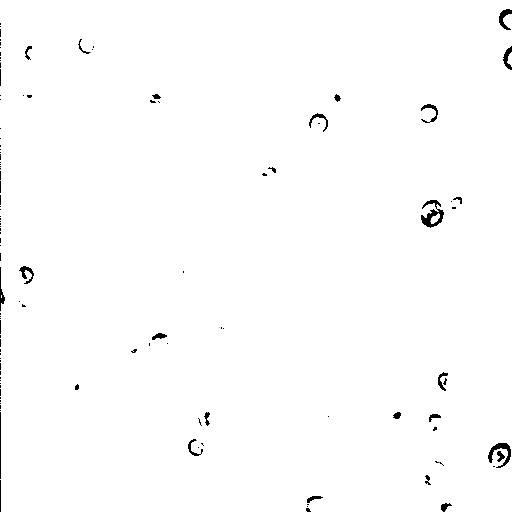micro-algae: (68, 407, 128, 468), (412, 199, 456, 243), (375, 15, 415, 59), (61, 369, 92, 401), (17, 79, 46, 106), (254, 157, 285, 182), (121, 341, 149, 368), (420, 458, 448, 485), (381, 400, 408, 428), (487, 439, 512, 469), (165, 259, 193, 285), (323, 84, 349, 111), (197, 404, 222, 430), (23, 42, 51, 64), (9, 290, 33, 314), (421, 199, 444, 224), (148, 332, 171, 355), (307, 111, 329, 135), (417, 101, 441, 123), (304, 493, 331, 512), (13, 265, 38, 285), (433, 494, 461, 511), (187, 437, 207, 457), (437, 371, 456, 392), (76, 35, 97, 53), (498, 7, 512, 33), (426, 412, 445, 431), (447, 194, 465, 211), (502, 45, 511, 71), (82, 0, 102, 6)
